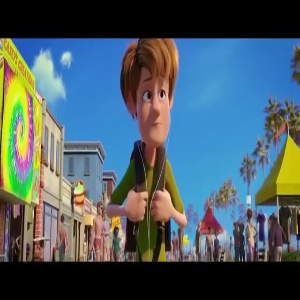Shagy: (116, 38, 192, 148)
